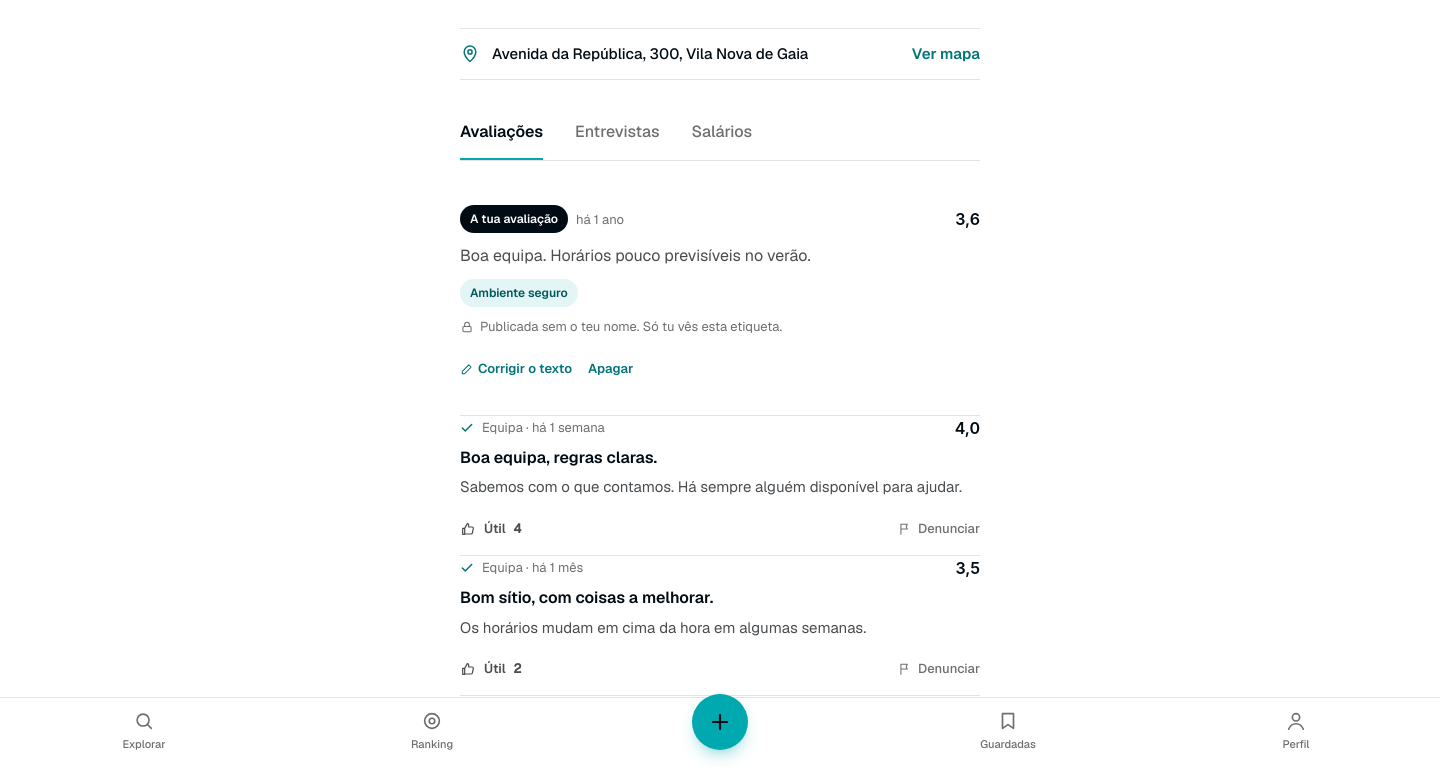
A minha avaliação (mobile) › corrigir o texto: as notas ficam e aparece "editada"
This screenshot has width=1440, height=773.
(page scrolled)
Click the button "Corrigir o texto".
click(516, 369)  # box [460,347,572,391]
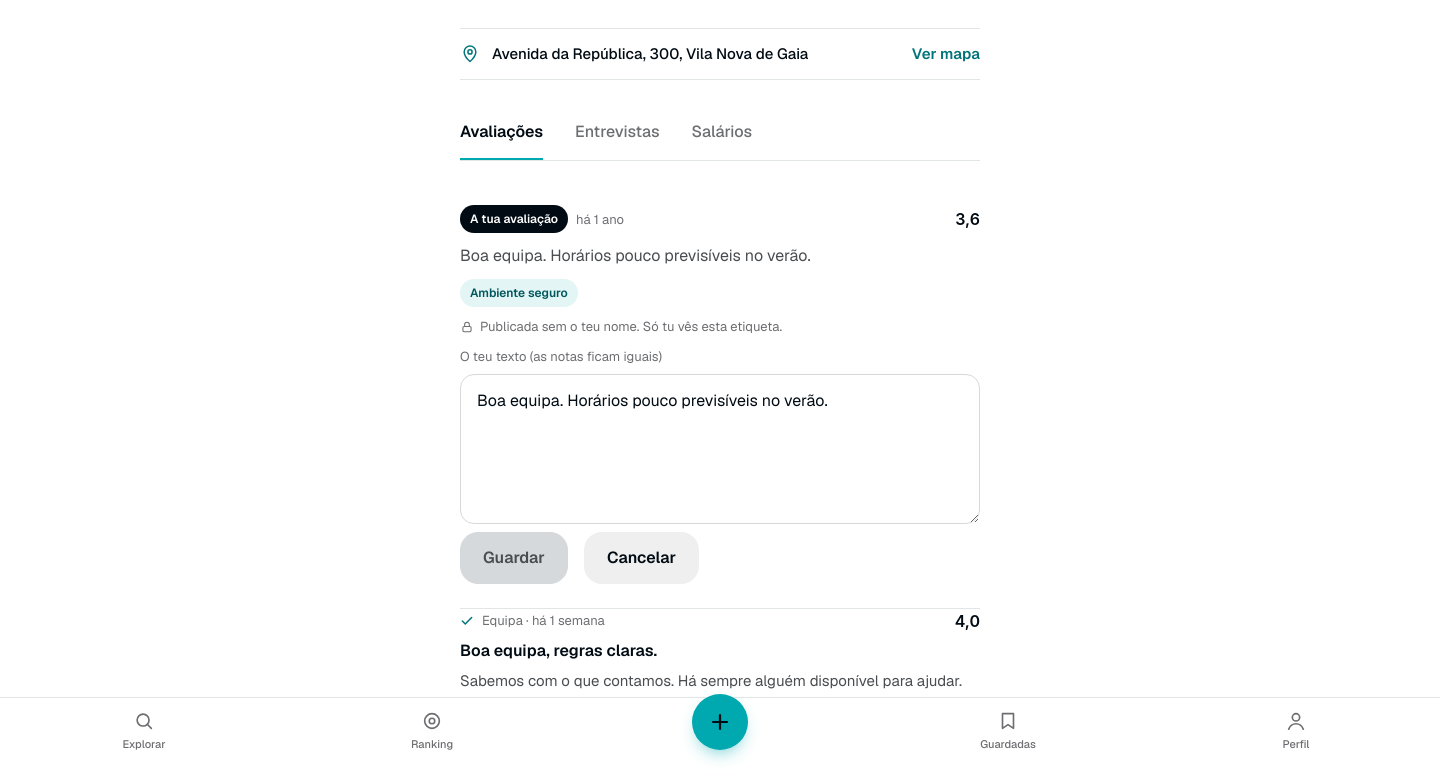
Check: the text box labelled "O teu texto (as notas ficam iguais)" holds "Boa equipa. Horários pouco previsíveis no verão."
Check: the button "Guardar" is disabled, box [460,532,568,584]
Replace the text in the text box labelled "O teu texto (as notas ficam iguais)" with "Boa equipa. Os horários melhoraram este ano." at (720, 449), box [460,374,980,524]
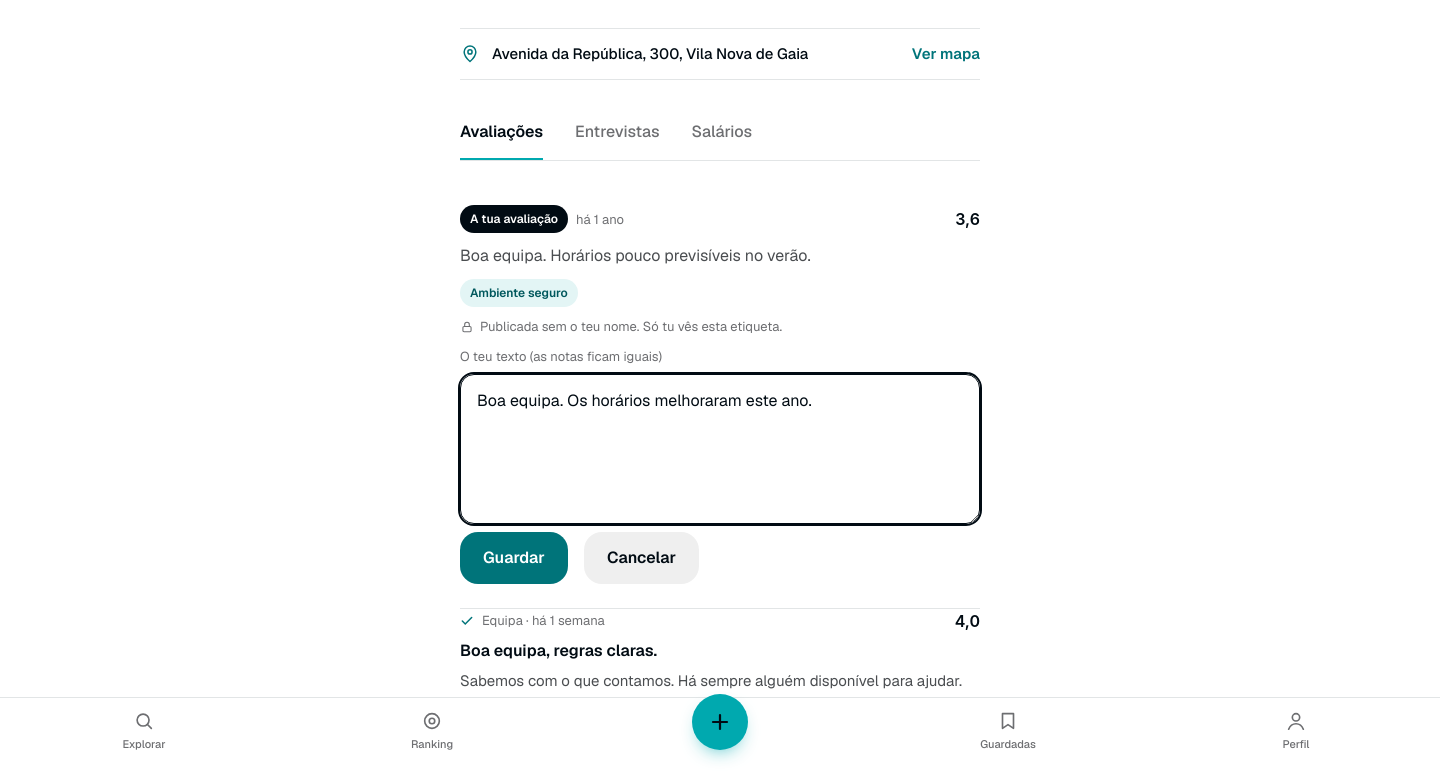
Click the button "Guardar".
click(514, 558)  # box [460,532,568,584]
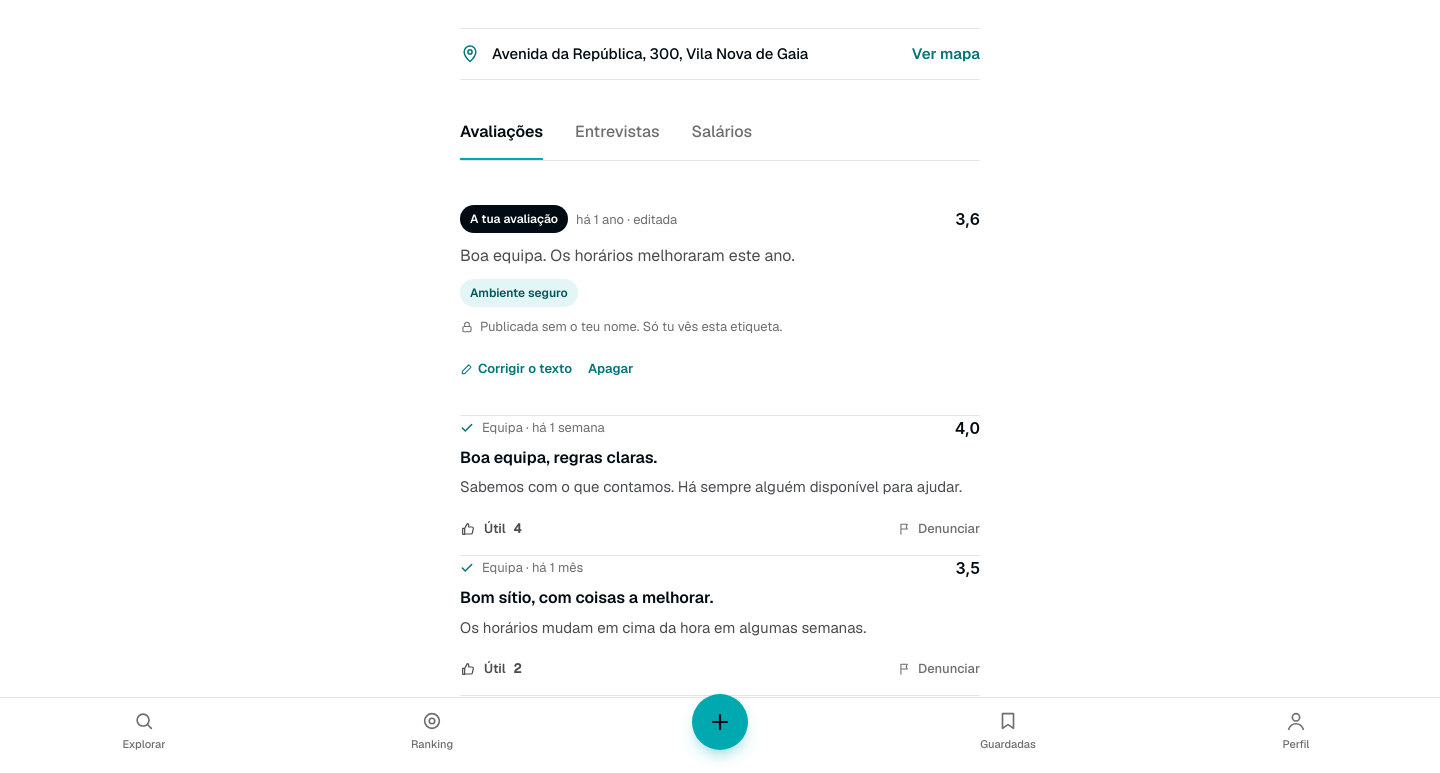
Check: the text "Boa equipa. Os horários melhoraram este ano." is shown, box [460,246,795,266]
Check: the text "há 1 ano · editada" is shown, box [576,210,677,229]
